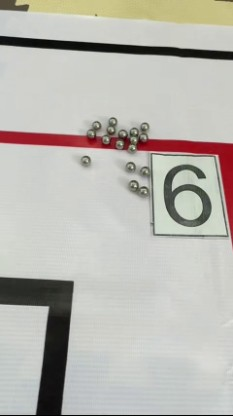ironball: (104, 113, 120, 129), (84, 125, 98, 140), (136, 182, 150, 197), (137, 117, 149, 134), (77, 152, 91, 166), (124, 178, 138, 190), (90, 115, 100, 130), (124, 159, 136, 171), (114, 136, 125, 149), (98, 134, 110, 145), (128, 124, 137, 137), (127, 140, 135, 154), (104, 124, 115, 134), (140, 164, 150, 175), (116, 126, 125, 137), (128, 135, 139, 144), (140, 131, 149, 141)
